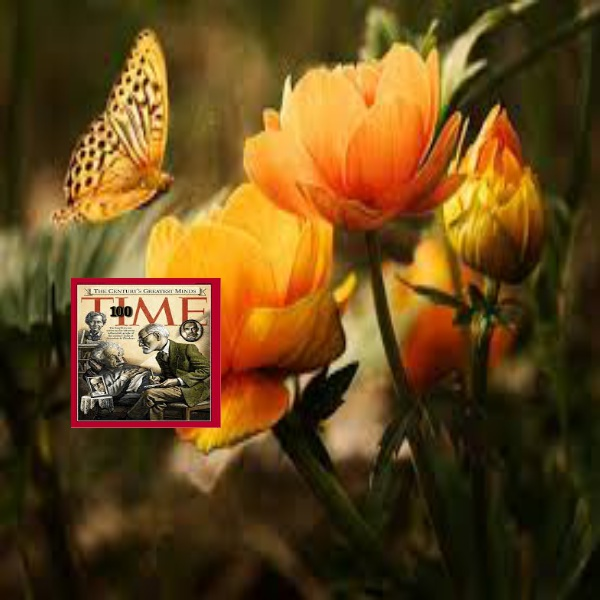time_cover: (65, 266, 224, 440)
